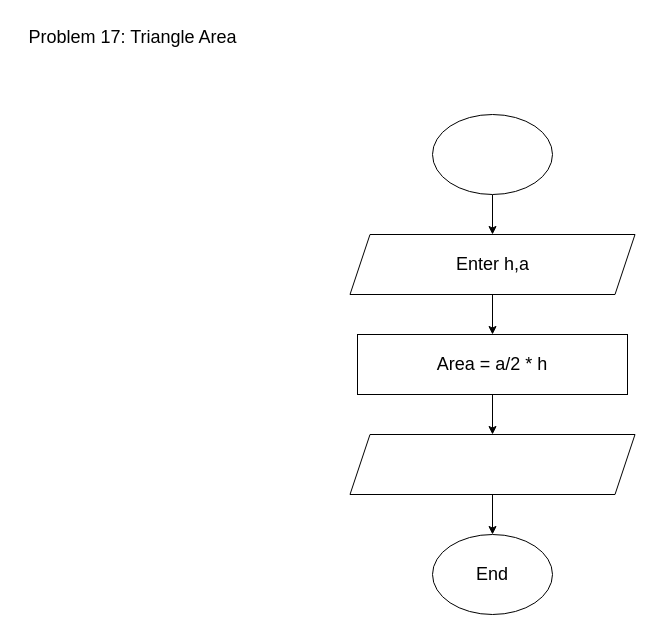
Some shapes in this 652 by 632 pixel diagram are drawn without their labels. Each missing label, with the centre of its shape:
Print Area: (492,464)
Start: (492,154)
